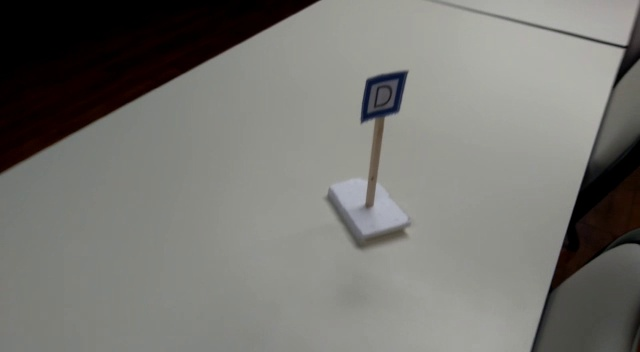durak: (360, 71, 409, 119)
